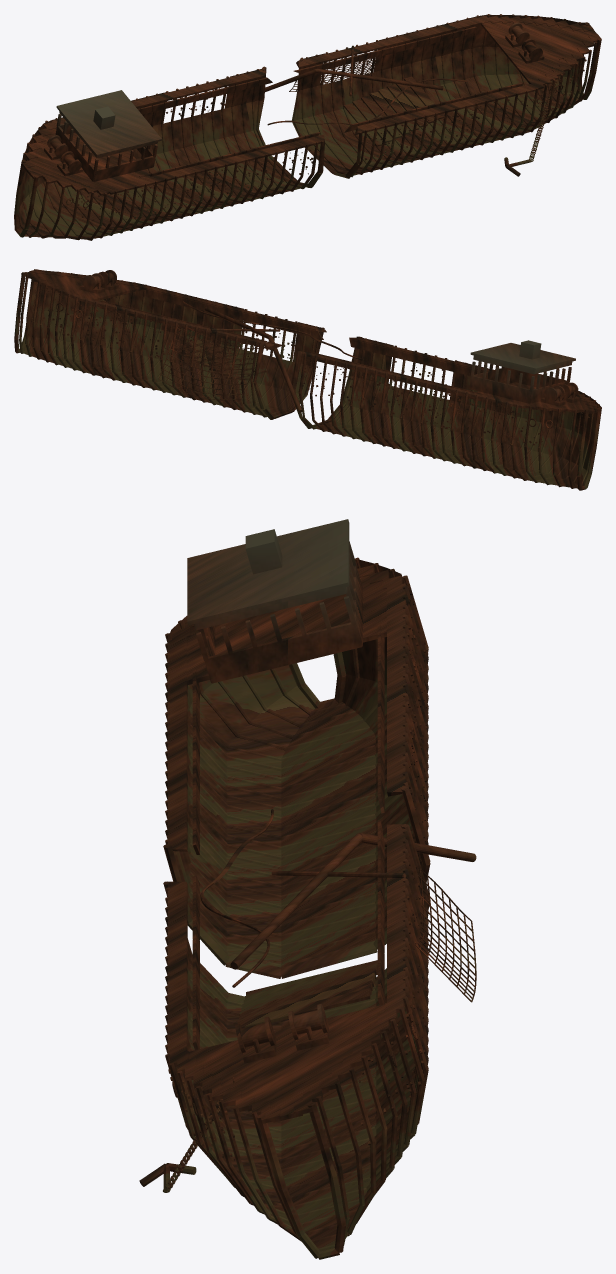
Rendered from wreck_chenjiao.glb.
3 renders of one model, top to bottom at view 1: azimuth 30°, elevation 25°; view 2: azimuth 150°, elevation 25°; view 3: azimuth 270°, elevation 25°, orthographic. The views are drawn at different scales.
Parts seen in each view (by area): view 1: Chenjiao; view 2: Chenjiao; view 3: Chenjiao.
Part boxes in pixels (left/top/right/bottom): Chenjiao: left=14, top=14, right=601, bottom=240; Chenjiao: left=14, top=269, right=601, bottom=490; Chenjiao: left=139, top=519, right=476, bottom=1259.
Bounding box in the file's own units: 48 × 11.17 × 12.34.
1 material, 1 textured.
